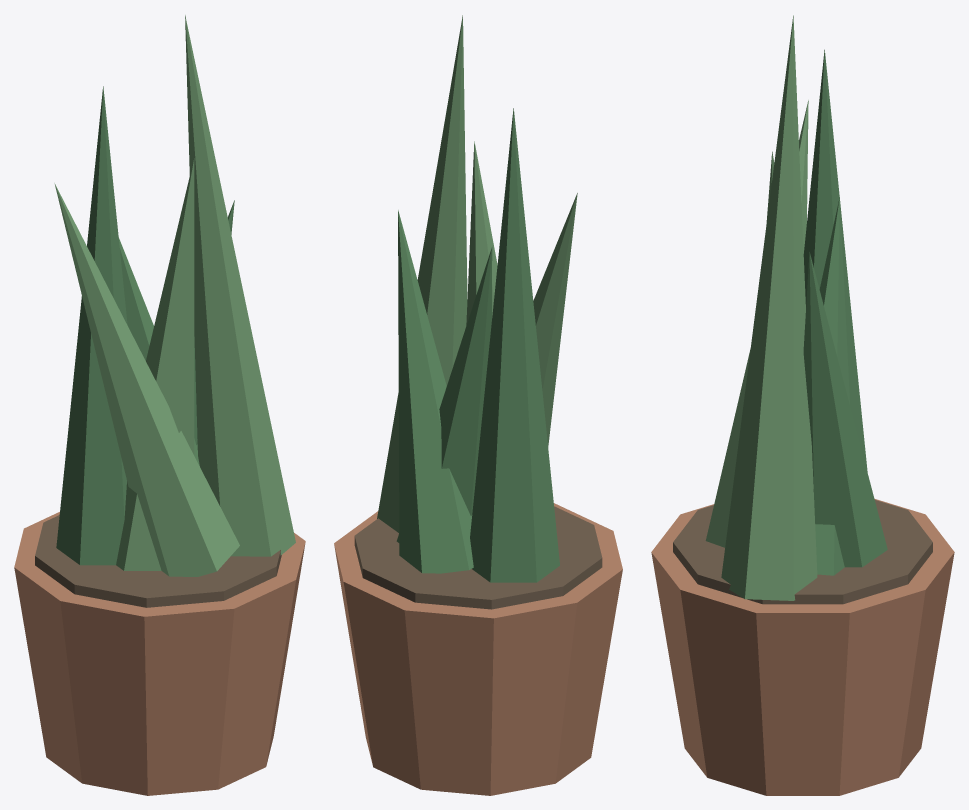
Rendered from pla_espada.glb.
3 renders of one model, left to right at view 1: azimuth 30°, elevation 25°; view 2: azimuth 150°, elevation 25°; view 3: azimuth 270°, elevation 25°, orthographic. The views are drawn at different scales.
Parts seen in each view (by area): view 1: PLA_ESPADA_v01; view 2: PLA_ESPADA_v01; view 3: PLA_ESPADA_v01.
Boxes of the visible parts, left/top/right/bottom form: PLA_ESPADA_v01: left=14, top=15, right=305, bottom=795; PLA_ESPADA_v01: left=334, top=15, right=622, bottom=795; PLA_ESPADA_v01: left=651, top=15, right=954, bottom=795.
Bounding box in the file's own units: 0.2663 × 0.7584 × 0.28.
